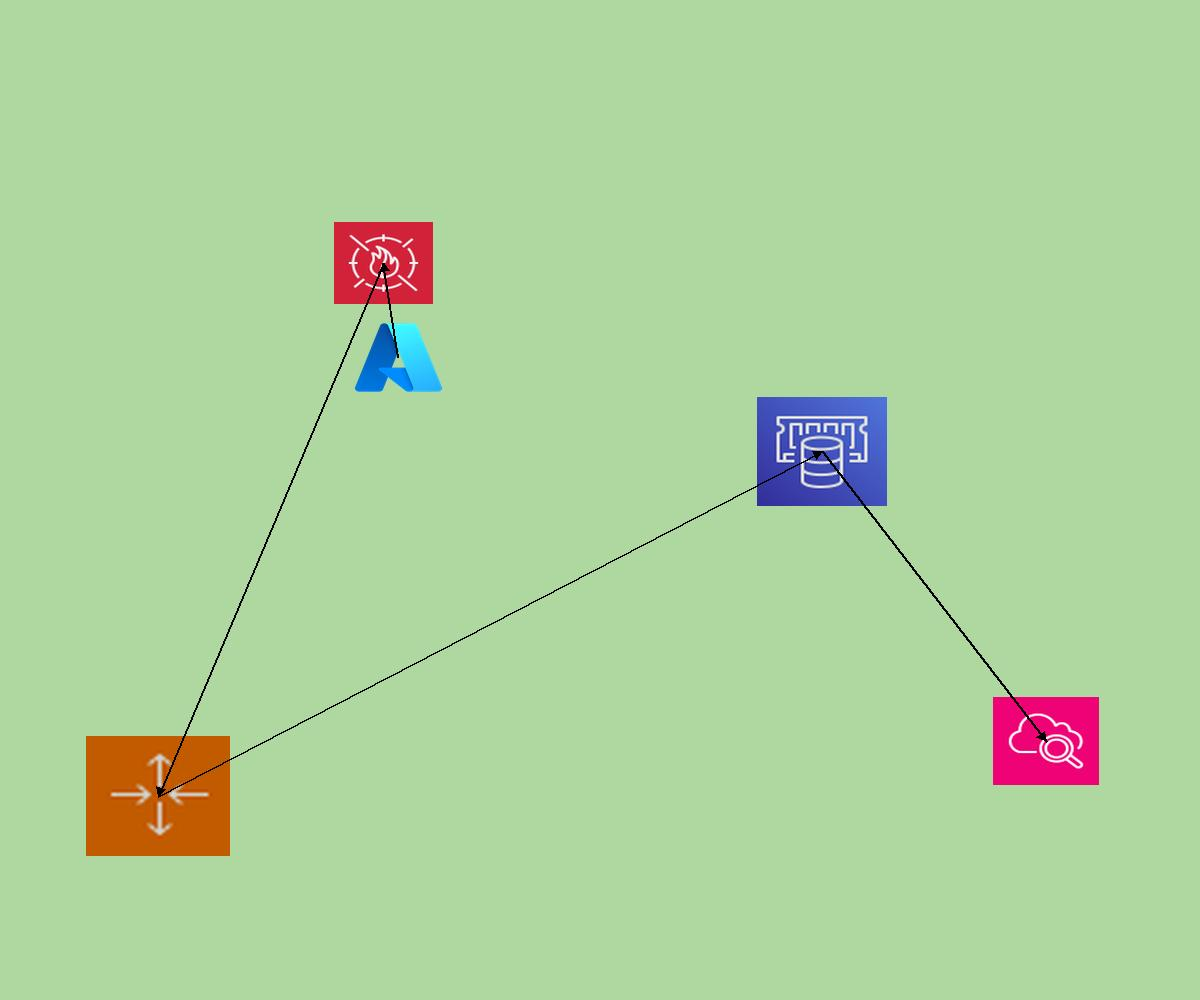AWS-CloudWatch: (993, 697, 1099, 785)
AWS-ElastiCache: (757, 397, 887, 506)
AWS-Scaling-group: (86, 736, 230, 856)
AWS-WAF: (334, 222, 433, 304)
Azure_services: (351, 318, 446, 397)
